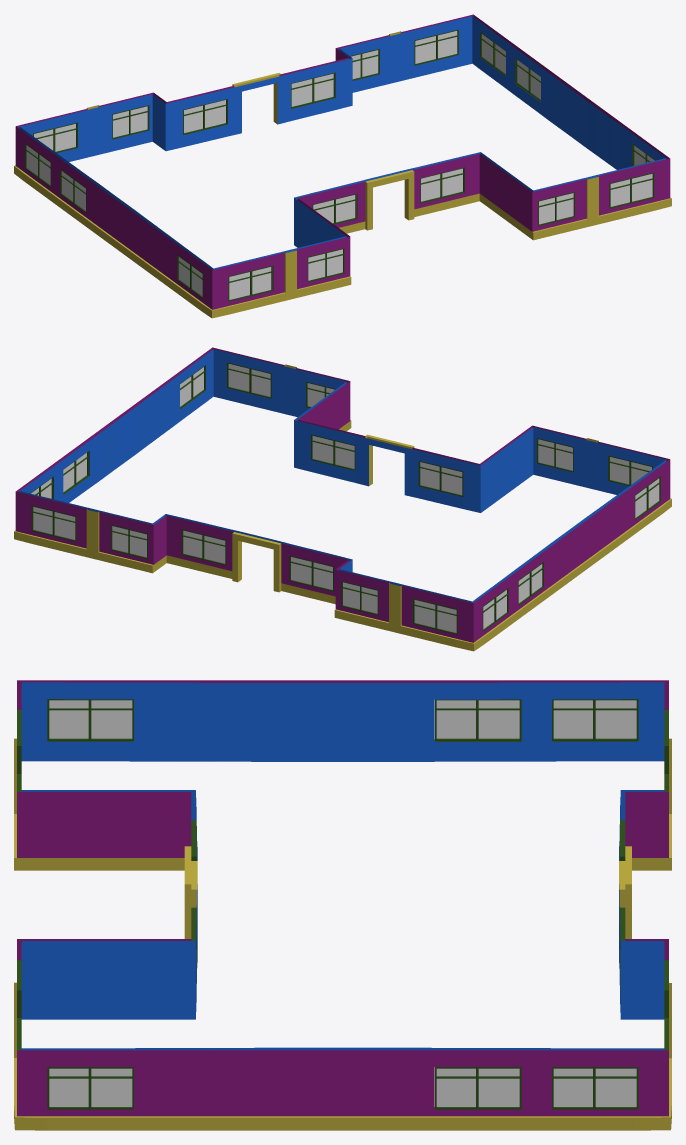
Rendered from SchoolF1.fbx.
3 views of the same model, one above another, from view 1: azimuth 30°, elevation 25°; view 2: azimuth 150°, elevation 25°; view 3: azimuth 270°, elevation 25° (orthographic). The views are drawn at different scales.
Parts seen in each view (by area): view 1: SchoolFloor1, WindowsF1; view 2: SchoolFloor1, WindowsF1; view 3: SchoolFloor1, WindowsF1.
Part boxes in pixels (left/top/right/bottom): SchoolFloor1: left=14, top=14, right=671, bottom=318; WindowsF1: left=25, top=29, right=655, bottom=301; SchoolFloor1: left=14, top=347, right=671, bottom=651; WindowsF1: left=30, top=362, right=660, bottom=634; SchoolFloor1: left=14, top=680, right=671, bottom=1130; WindowsF1: left=47, top=699, right=638, bottom=1109.
Size of the model in its own units: 40.53 by 4 by 30.24.
